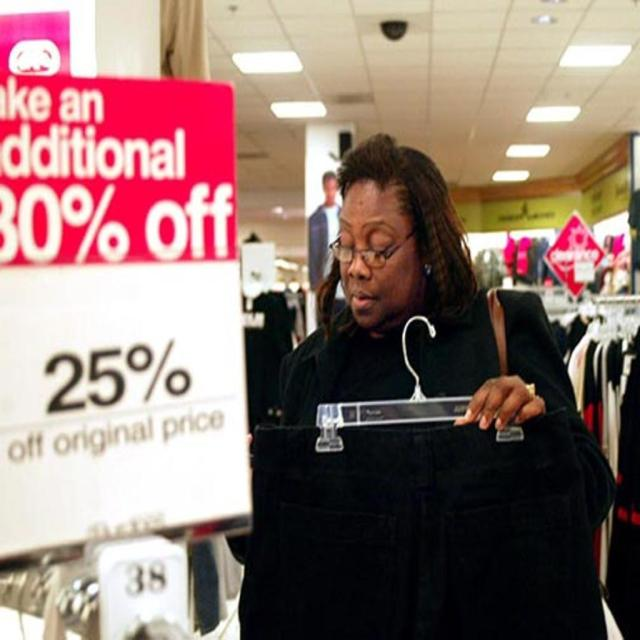Face: (318, 172, 428, 332)
